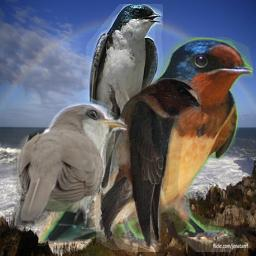Cuckoo: (12, 103, 127, 229)
Swallow: (38, 37, 253, 252), (96, 78, 201, 250), (80, 4, 163, 193)
